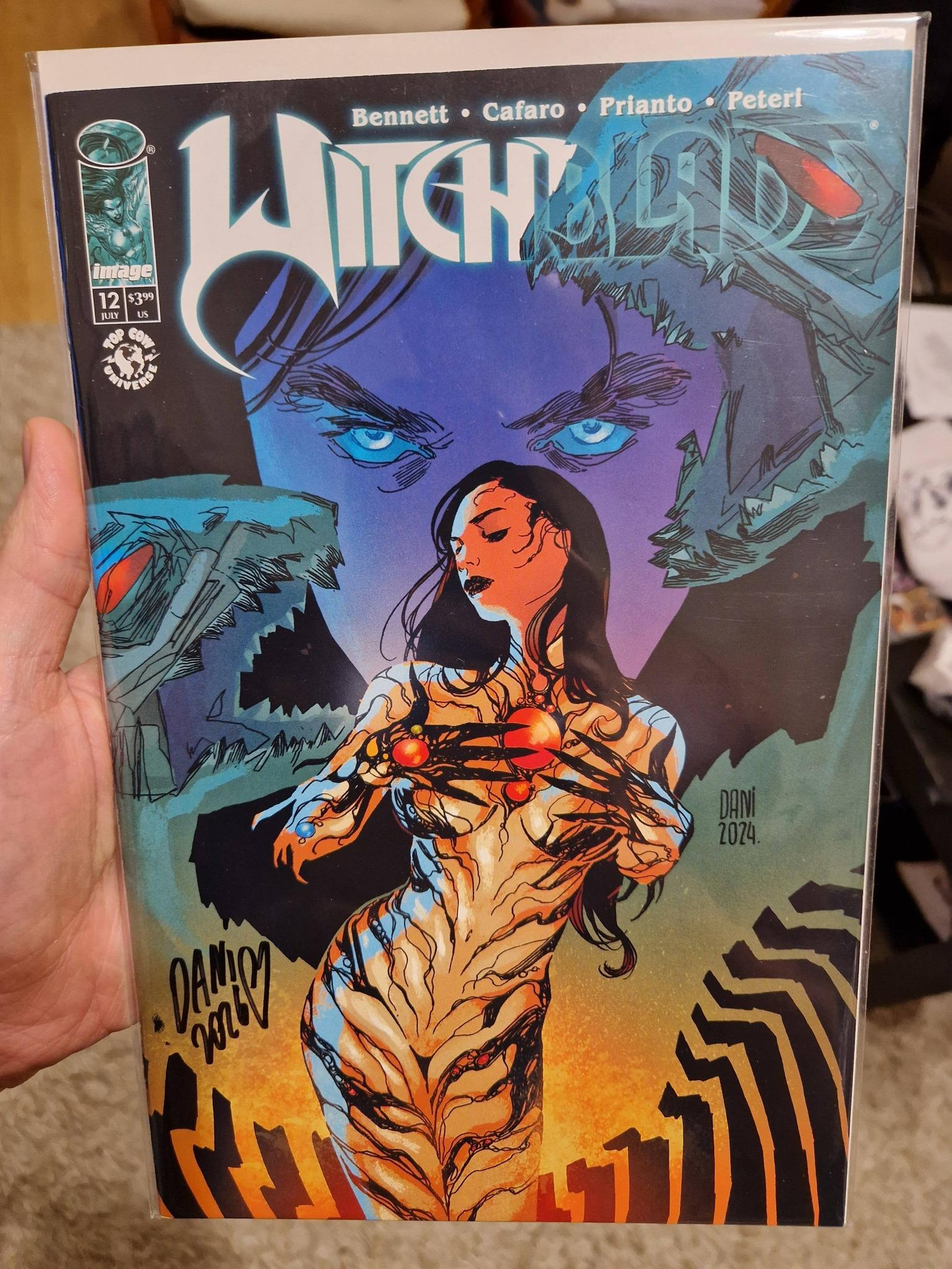comic: (36, 17, 952, 1249)
